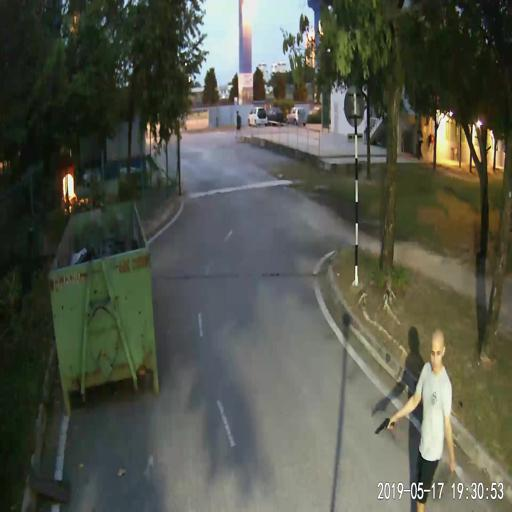Handgun: (374, 416, 393, 434)
